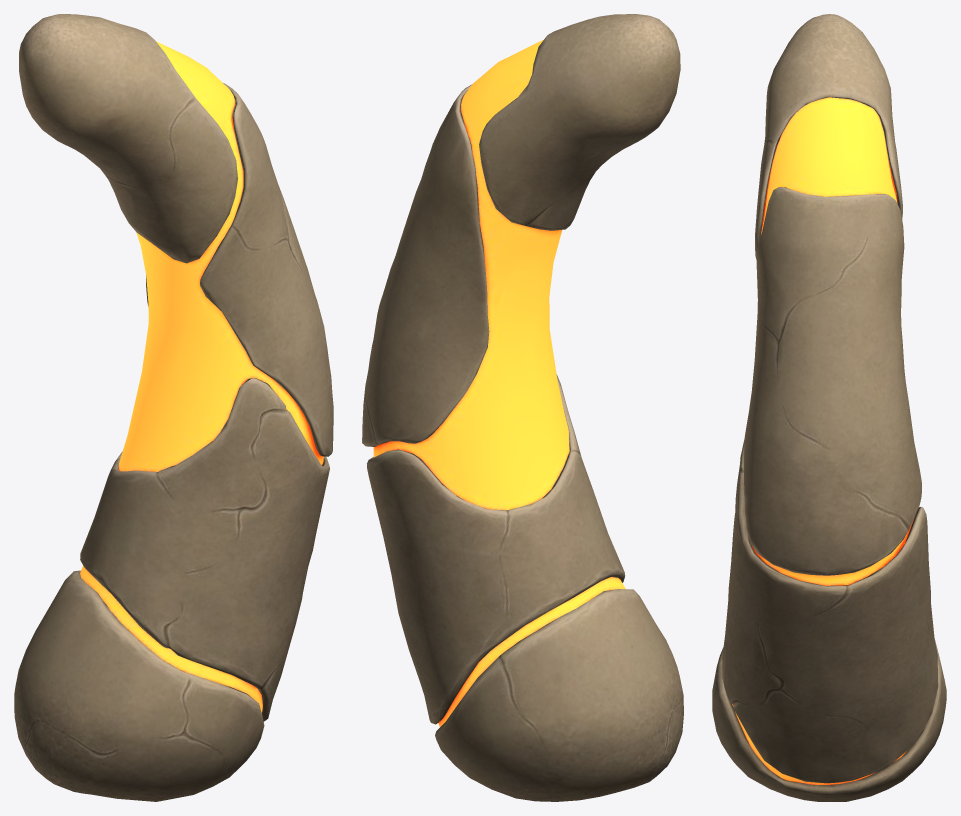
File: tb_bone_01e.glb
3 renders of one model, left to right at view 1: azimuth 30°, elevation 25°; view 2: azimuth 150°, elevation 25°; view 3: azimuth 270°, elevation 25°, orthographic. The views are drawn at different scales.
Visible parts, largest first — view 1: tb_bone_01e; view 2: tb_bone_01e; view 3: tb_bone_01e.
Boxes of the visible parts, <box> form: tb_bone_01e: <box>14,14,333,801</box>; tb_bone_01e: <box>362,14,683,801</box>; tb_bone_01e: <box>712,14,946,801</box>.
Size of the model in its own units: 4.03 by 10.24 by 2.99.
1 material, 1 textured.
